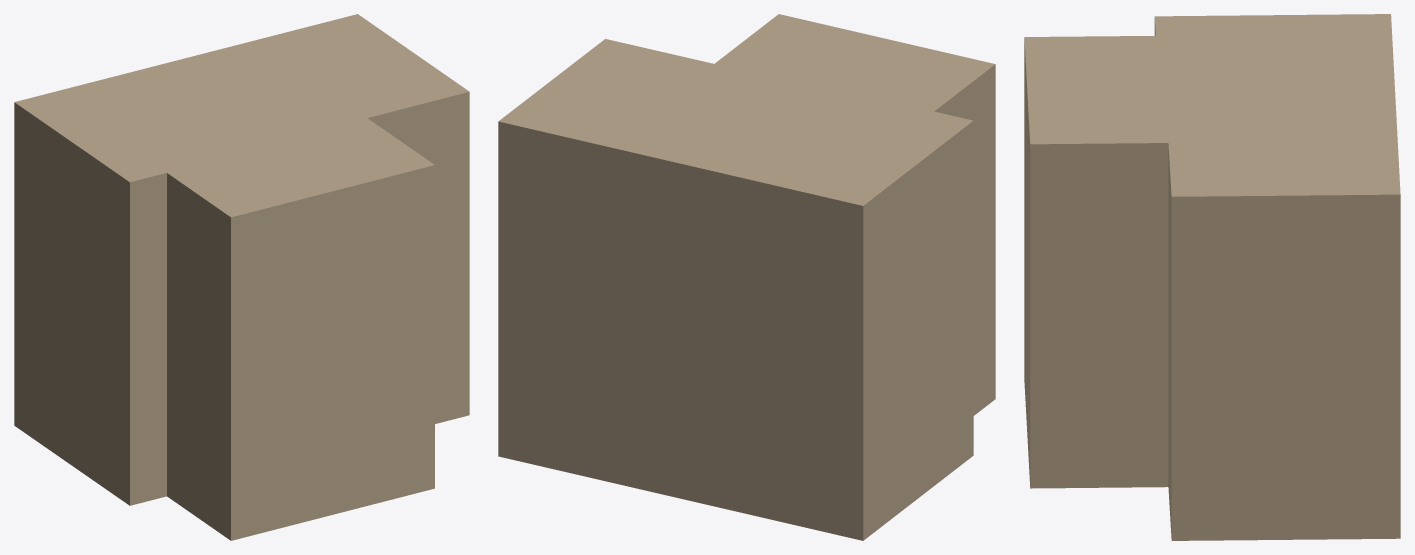
The model's file is bld_106415224.dae.
3 views of the same model, side by side, from view 1: azimuth 30°, elevation 25°; view 2: azimuth 150°, elevation 25°; view 3: azimuth 270°, elevation 25° (orthographic). The views are drawn at different scales.
Parts seen in each view (by area): view 1: bld_106415224; view 2: bld_106415224; view 3: bld_106415224.
Boxes of the visible parts, <box> form: bld_106415224: <box>14,14,469,540</box>; bld_106415224: <box>498,14,995,540</box>; bld_106415224: <box>1024,14,1400,540</box>.
Bounding box in the file's own units: 9.11 × 7.92 × 8.
